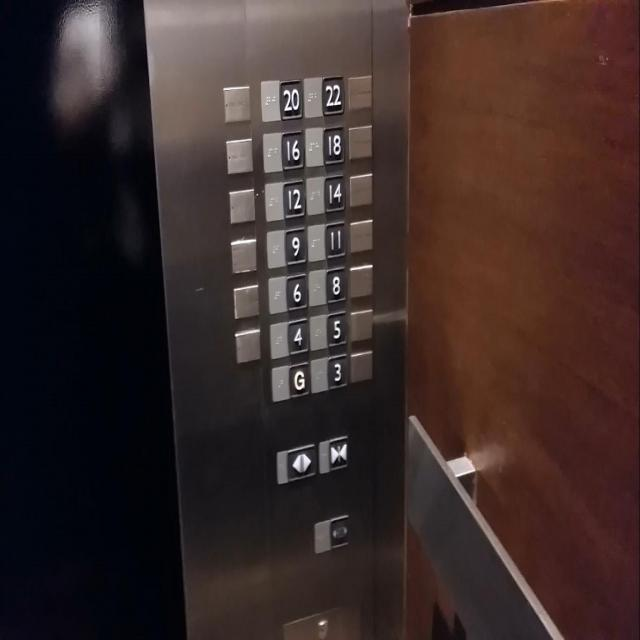11: (323, 218, 347, 258)
12: (282, 176, 306, 217)
14: (322, 171, 347, 212)
16: (280, 127, 305, 171)
18: (321, 123, 346, 164)
20: (278, 75, 304, 120)
22: (320, 72, 345, 115)
3: (326, 349, 348, 390)
4: (286, 314, 311, 357)
5: (325, 306, 349, 346)
6: (284, 269, 309, 311)
8: (323, 263, 348, 302)
9: (282, 223, 308, 265)
G: (288, 358, 312, 397)
close: (327, 432, 350, 472)
open: (285, 438, 316, 482)
unknown: (328, 511, 349, 550)
